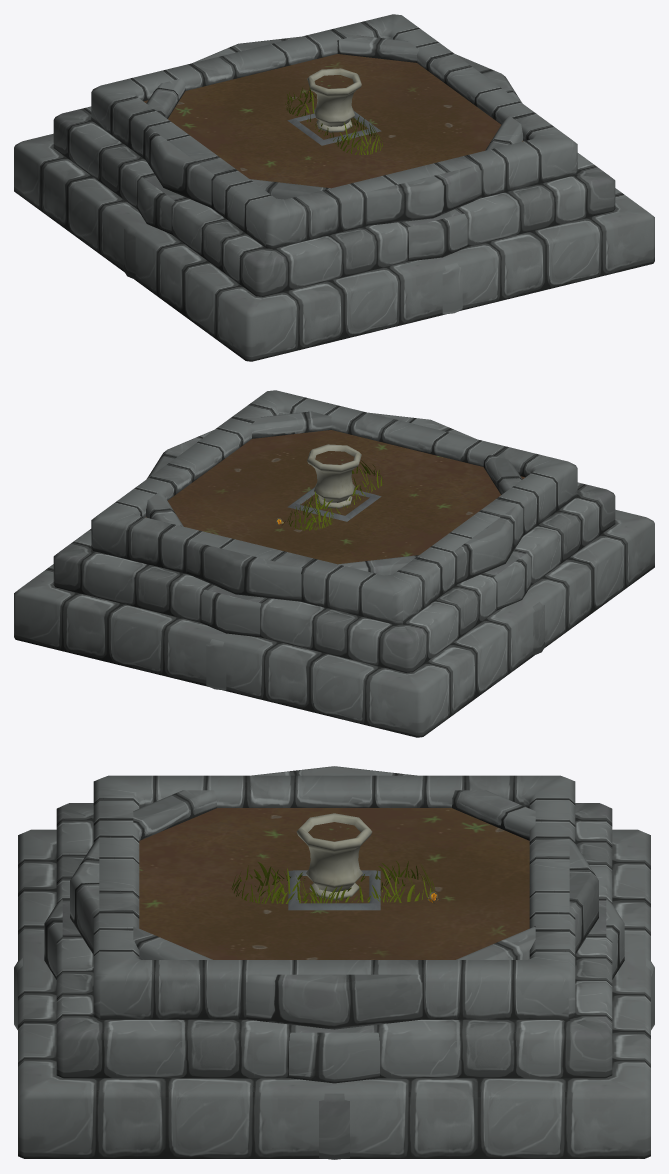
File: flowers.fbx
The picture shows the model from 3 angles, top to bottom: view 1: azimuth 30°, elevation 25°; view 2: azimuth 150°, elevation 25°; view 3: azimuth 270°, elevation 25°; orthographic projection. The views are drawn at different scales.
Parts seen in each view (by area): view 1: bricks.001, dirt.002, bricks, marble1, LOD_0, stone3; view 2: bricks.001, dirt.002, bricks, marble1, LOD_0, stone3; view 3: bricks.001, dirt.002, bricks, marble1, LOD_0, stone3.
Boxes of the visible parts, <box> form: bricks.001: <box>14,14,654,361</box>; dirt.002: <box>168,54,501,188</box>; bricks: <box>124,35,522,314</box>; marble1: <box>307,68,361,132</box>; LOD_0: <box>285,87,382,154</box>; stone3: <box>287,111,381,145</box>; bricks.001: <box>14,390,654,737</box>; dirt.002: <box>167,430,500,564</box>; bricks: <box>146,411,544,690</box>; marble1: <box>307,444,361,508</box>; LOD_0: <box>276,460,383,530</box>; stone3: <box>287,487,381,521</box>; bricks.001: <box>18,775,650,1158</box>; dirt.002: <box>139,808,529,959</box>; bricks: <box>14,766,654,1159</box>; marble1: <box>296,813,372,899</box>; LOD_0: <box>231,861,440,903</box>; stone3: <box>288,870,380,910</box>.
Bounding box in the file's own units: 530 × 180 × 530.
